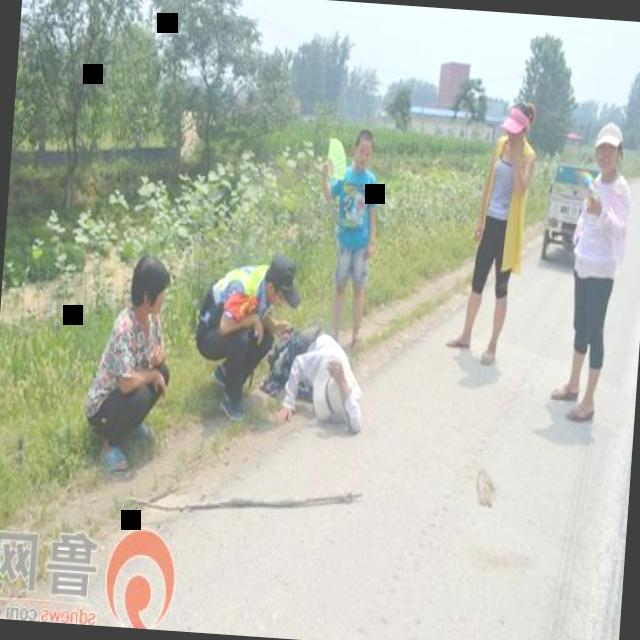Fall-Detected: (254, 302, 378, 443)
